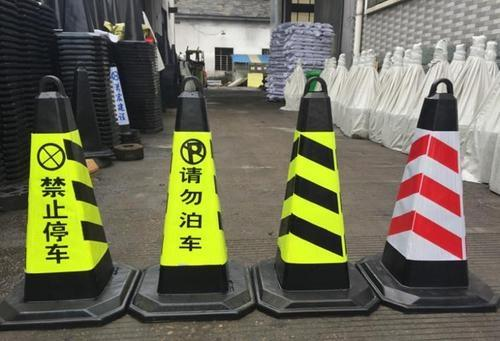cone_barrel: (8, 73, 120, 314), (365, 74, 480, 307), (142, 67, 236, 315), (261, 81, 363, 306), (70, 65, 100, 150), (105, 57, 132, 129)
